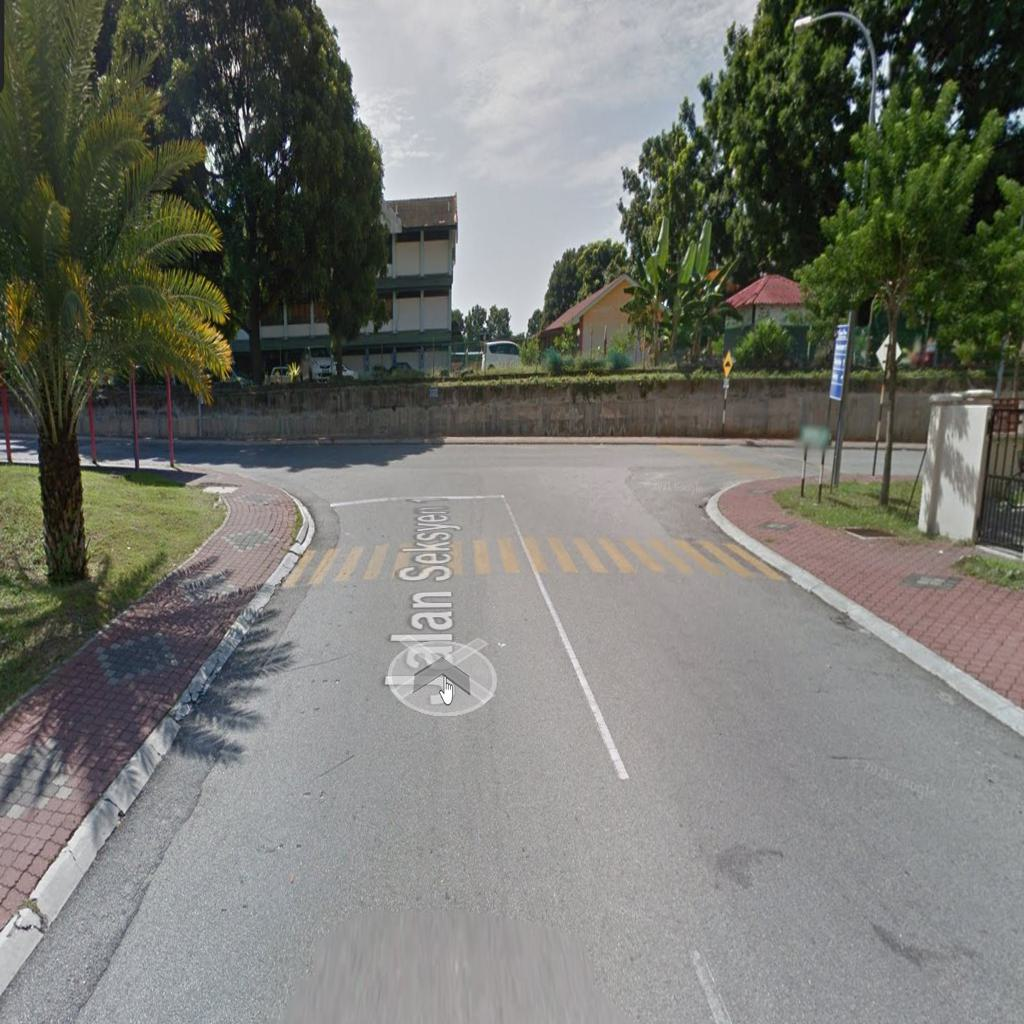Junction: (173, 398, 411, 537), (680, 402, 918, 537)
